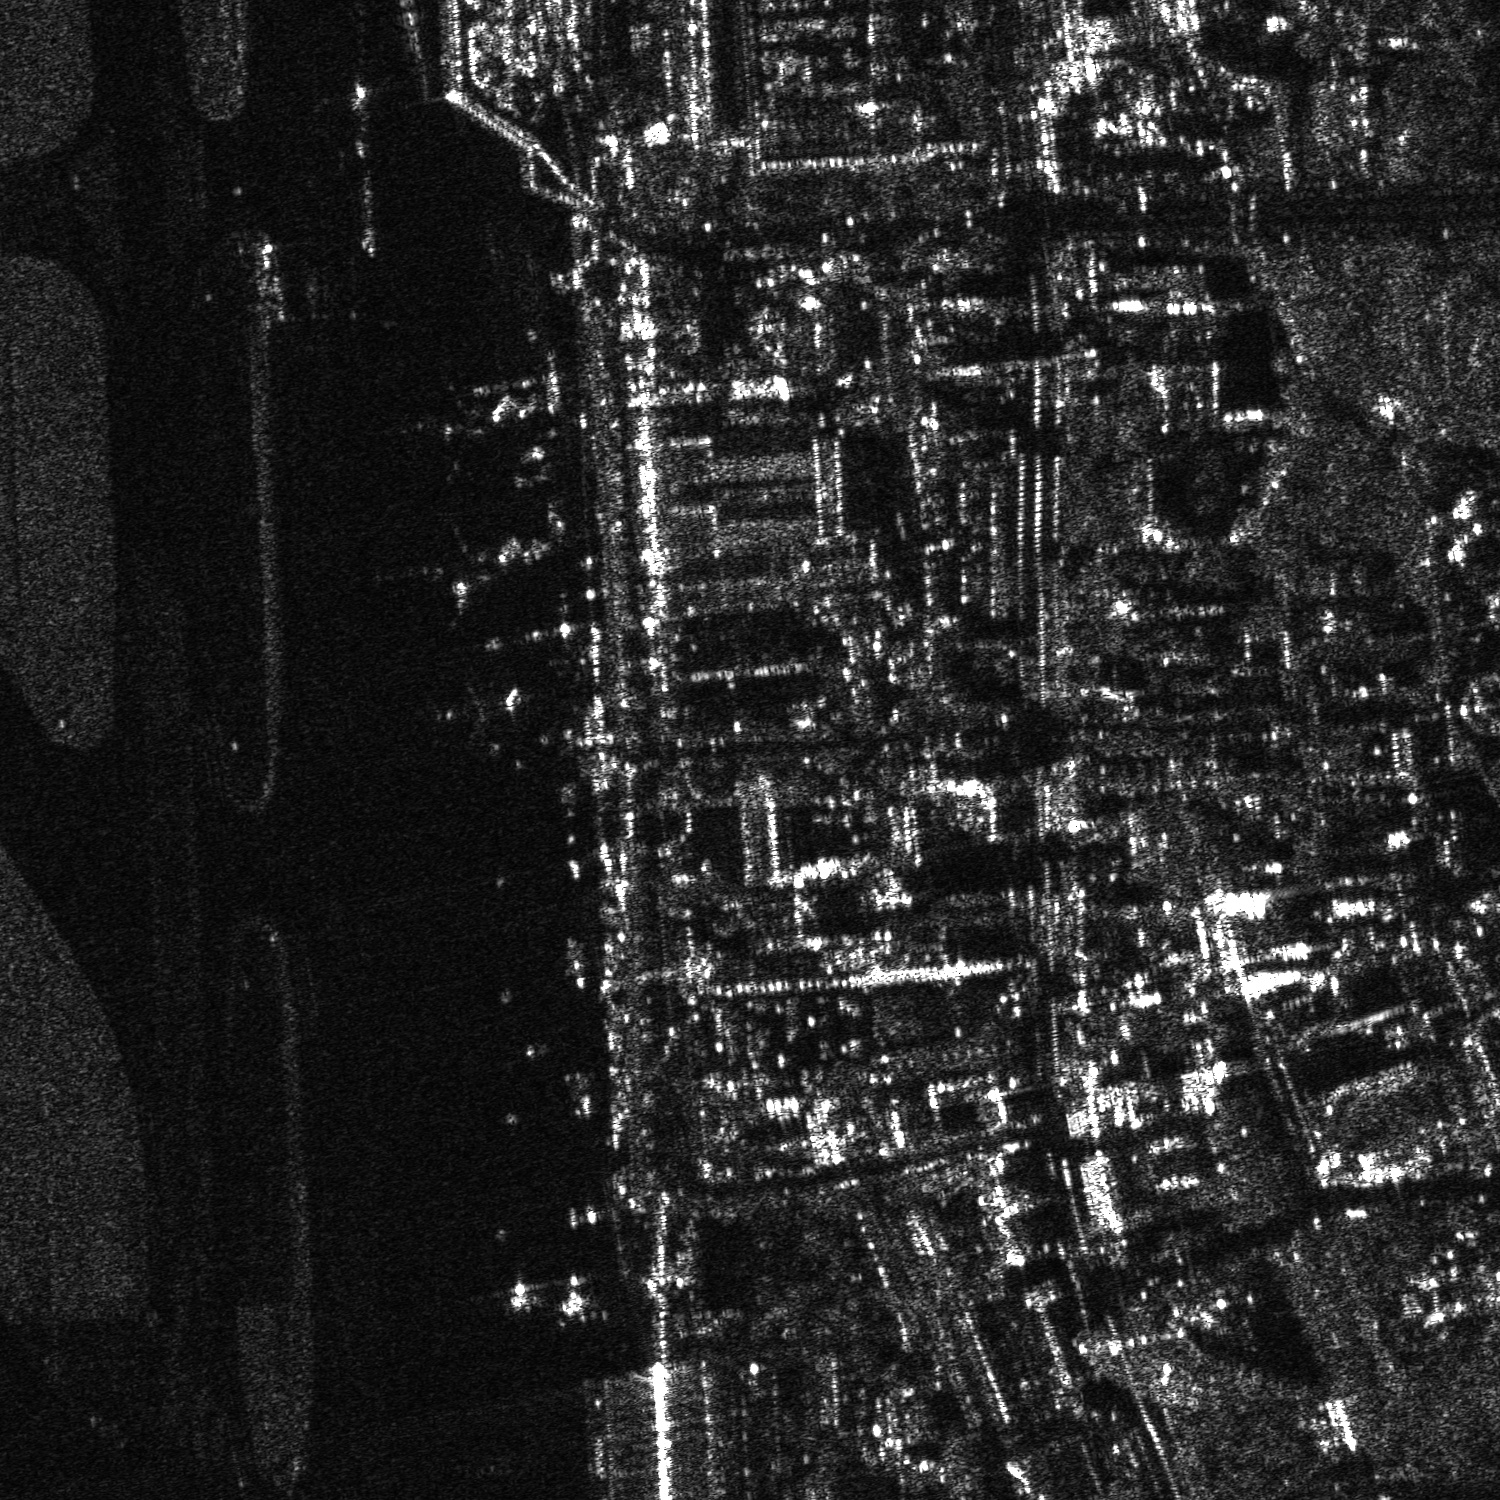ARJ21: (412, 511, 573, 620)
other: (444, 341, 576, 466), (434, 681, 521, 750)
